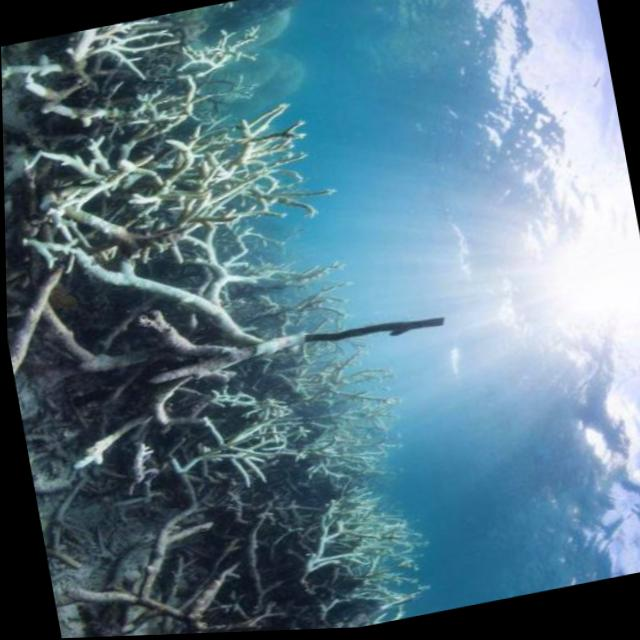Dead Coral: (0, 4, 427, 640)
